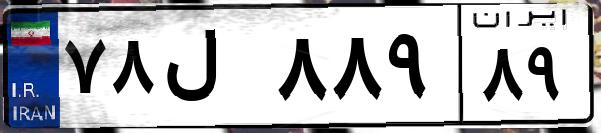7: (57, 26, 110, 100)
8: (270, 28, 330, 110), (330, 28, 385, 110), (475, 38, 525, 113), (110, 28, 158, 98)
9: (385, 28, 445, 110), (525, 38, 570, 115)
ل: (158, 20, 270, 120)
